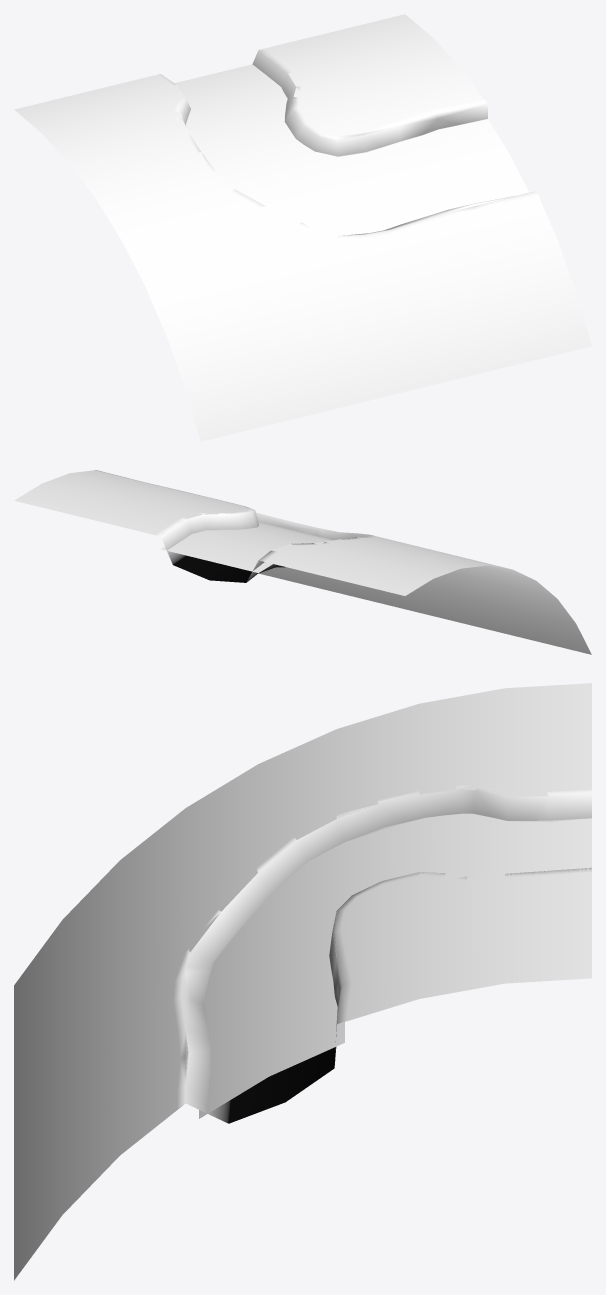
File: grd_Rwn_1.dae
3 views of the same model, one above another, from view 1: azimuth 30°, elevation 25°; view 2: azimuth 150°, elevation 25°; view 3: azimuth 270°, elevation 25° (orthographic). The views are drawn at different scales.
Parts seen in each view (by area): view 1: grd_Rwn_1; view 2: grd_Rwn_1; view 3: grd_Rwn_1.
Part boxes in pixels (<box>): grd_Rwn_1: <box>14,14,591,441</box>; grd_Rwn_1: <box>14,470,591,654</box>; grd_Rwn_1: <box>14,683,591,1280</box>.
Bounding box in the file's own units: 512 × 244 × 423.
Materials: 4 (1 with a texture image).
